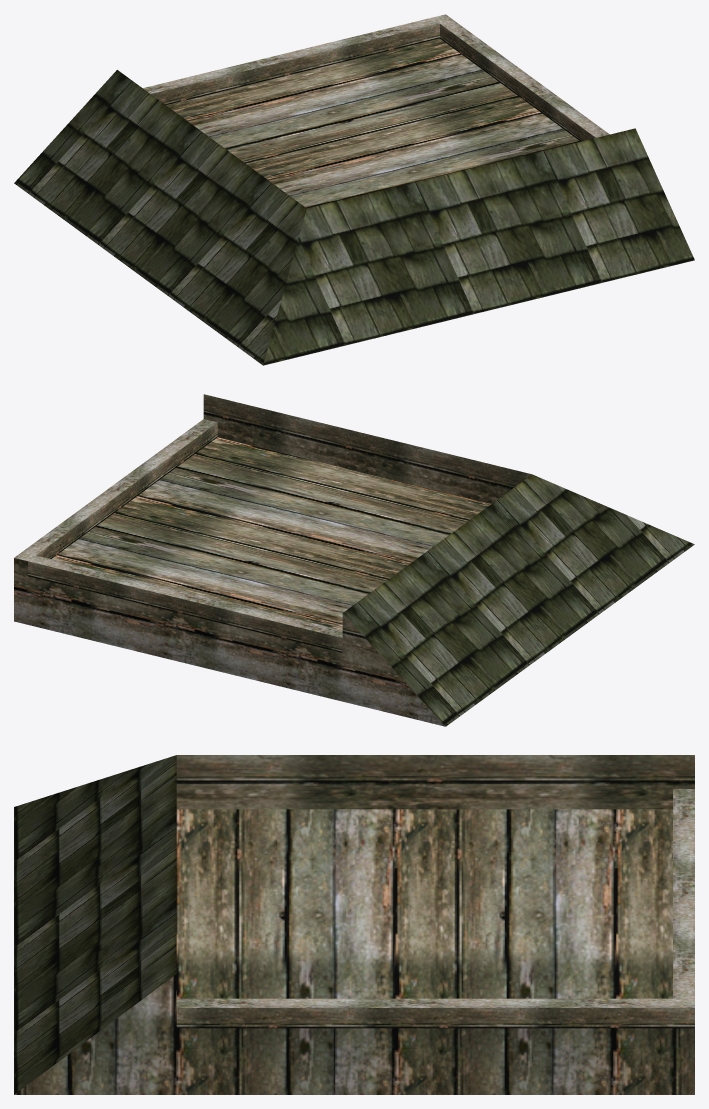
Rendered from HouseWall05.glb.
3 renders of one model, top to bottom at view 1: azimuth 30°, elevation 25°; view 2: azimuth 150°, elevation 25°; view 3: azimuth 270°, elevation 25°, orthographic. The views are drawn at different scales.
Parts seen in each view (by area): view 1: HouseWall05; view 2: HouseWall05; view 3: HouseWall05.
Boxes of the visible parts, left/top/right/bottom form: HouseWall05: left=14, top=14, right=694, bottom=365; HouseWall05: left=14, top=394, right=694, bottom=726; HouseWall05: left=14, top=755, right=694, bottom=1094.
Bounding box in the file's own units: 4.6 × 0.9004 × 4.6.
2 materials, 2 textured.
